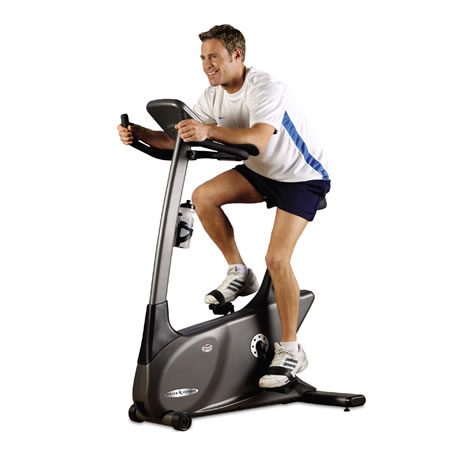gym_bike: (98, 94, 378, 433)
